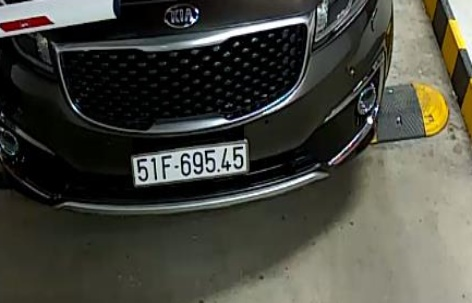plate: (122, 142, 259, 180)
